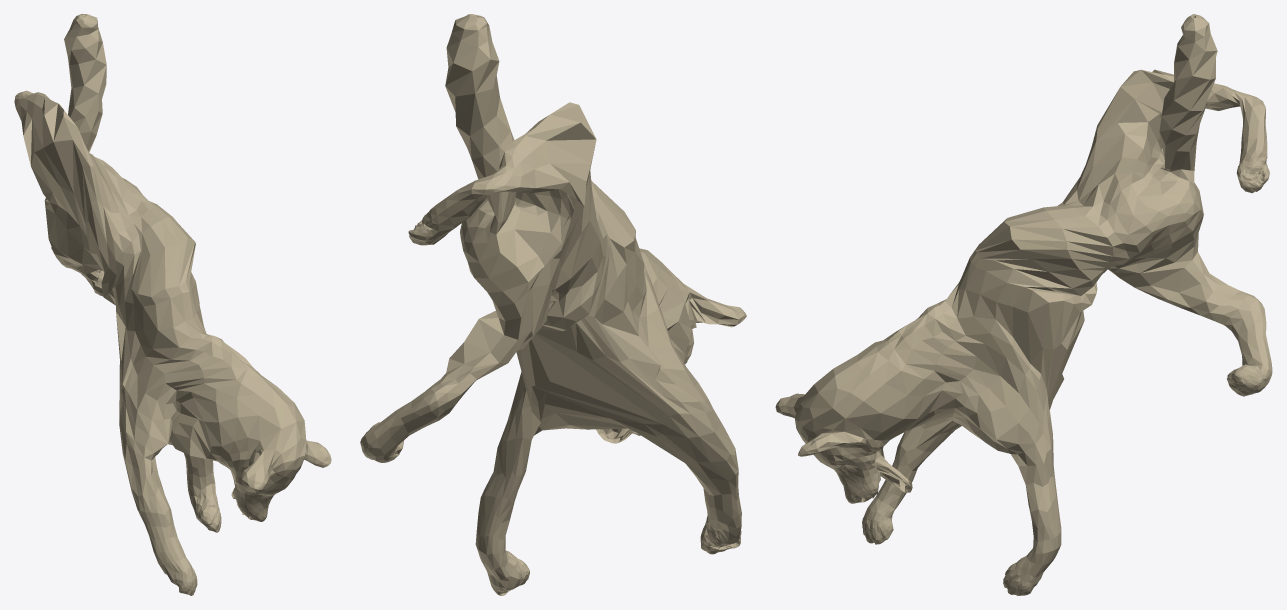
3 views of the same model, side by side, from view 1: azimuth 30°, elevation 25°; view 2: azimuth 150°, elevation 25°; view 3: azimuth 270°, elevation 25° (orthographic). The views are drawn at different scales.
Visible parts, largest first — view 1: world; view 2: world; view 3: world.
Part boxes in pixels (x1,y1,x2,y2): world: (14,14,331,595); world: (360,14,746,595); world: (775,14,1272,595).
Size of the model in its own units: 0.3742 by 1.16 by 0.9565.
